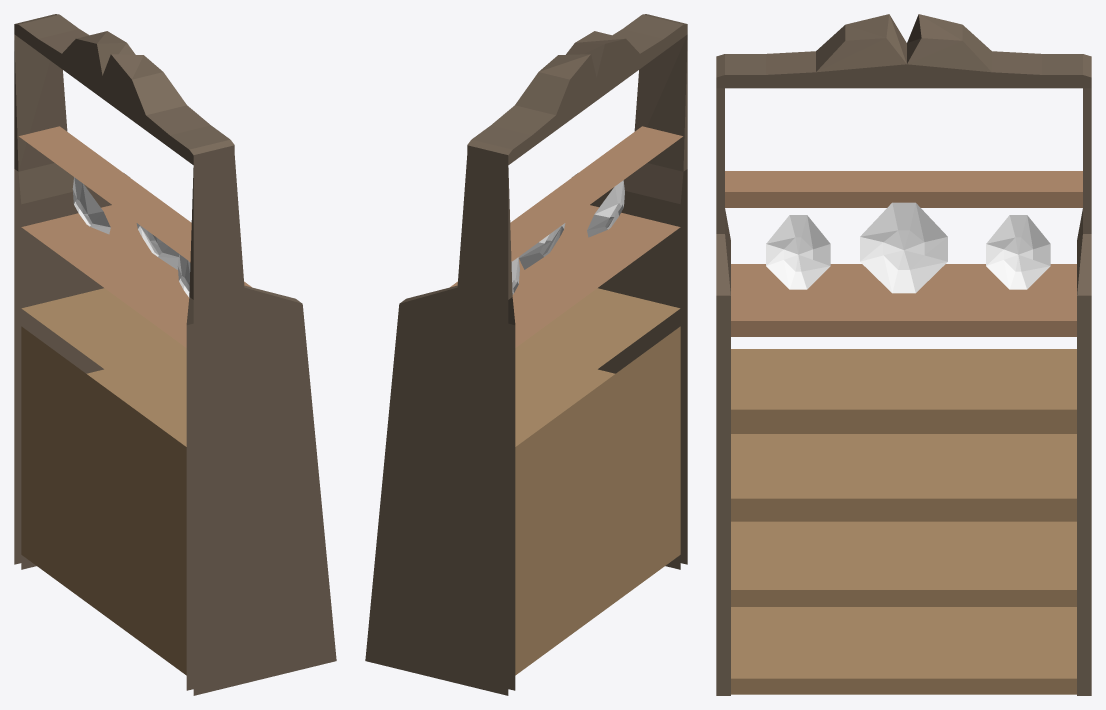
File: obj_shelves_5_0.obj
3 renders of one model, left to right at view 1: azimuth 30°, elevation 25°; view 2: azimuth 150°, elevation 25°; view 3: azimuth 270°, elevation 25°, orthographic. The views are drawn at different scales.
Bounding box in the file's own units: 0.4609 × 1.79 × 1.
